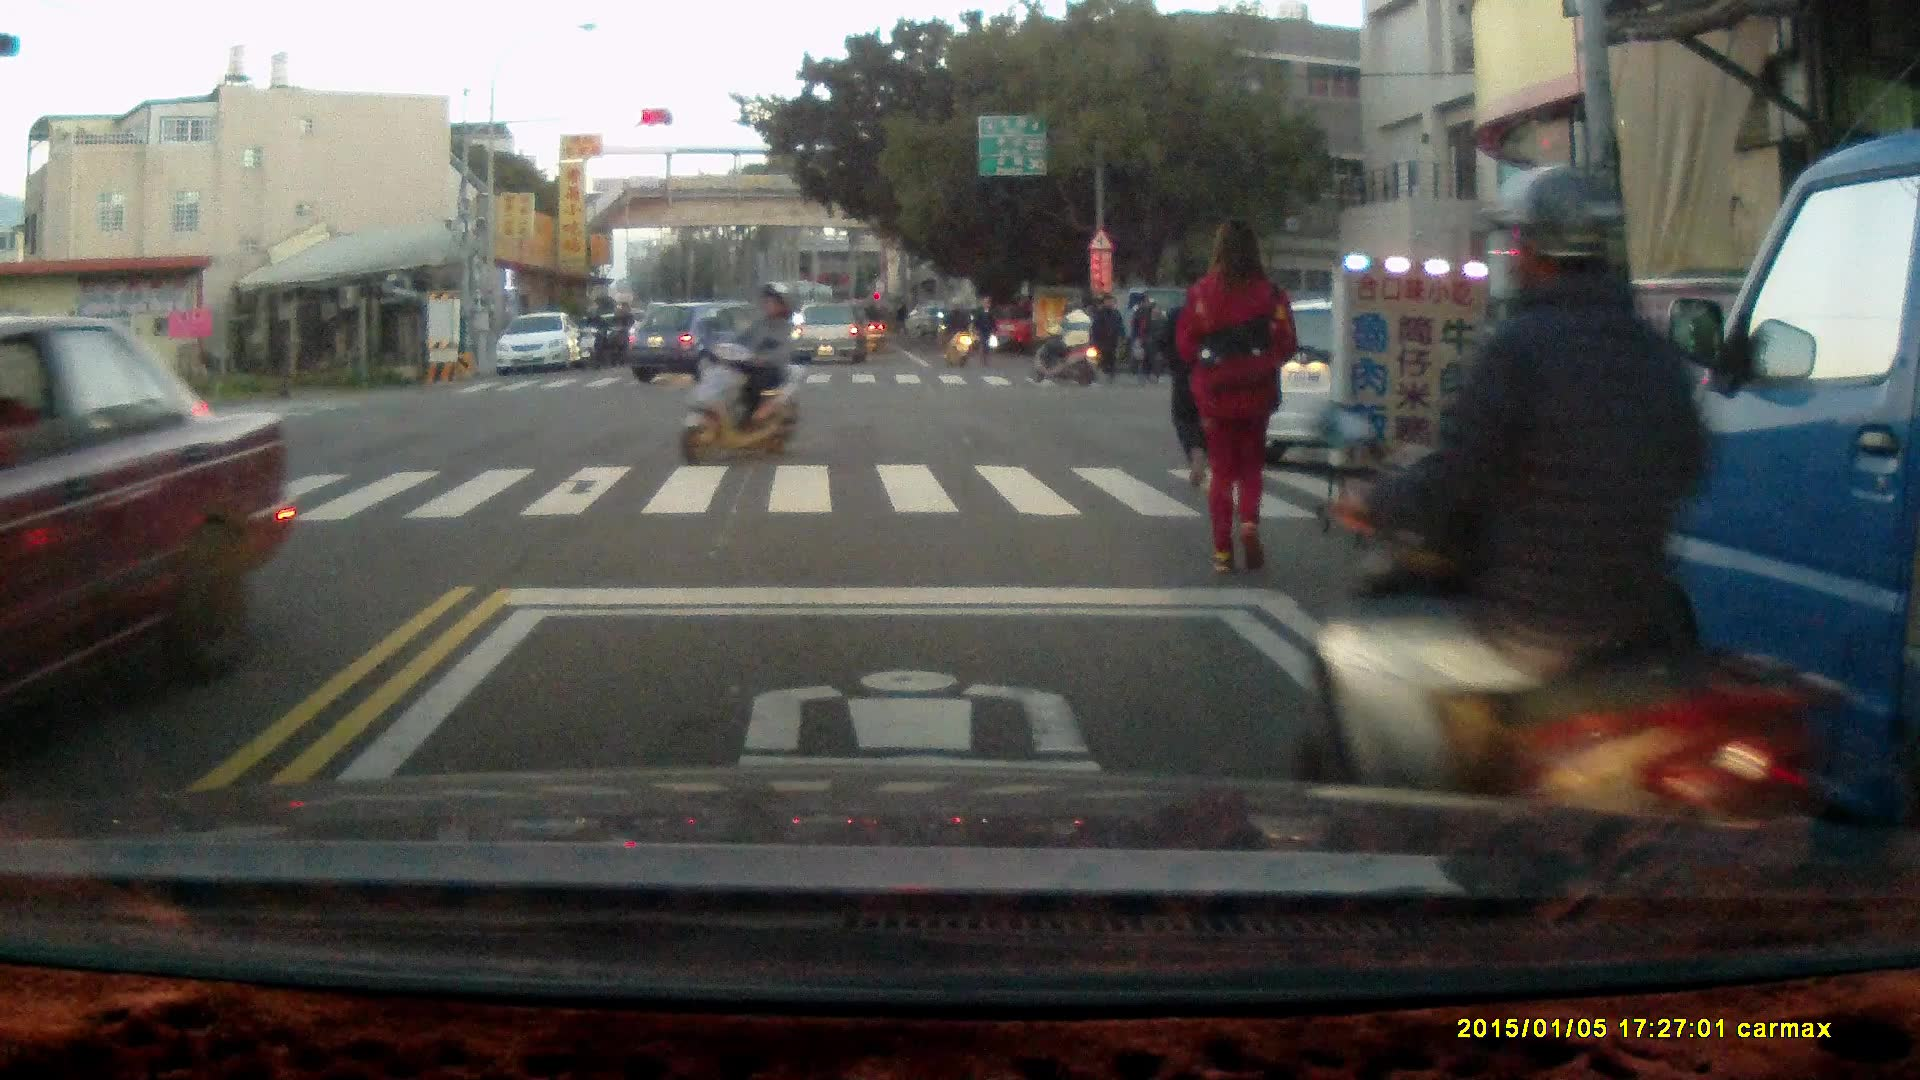pedestrian: (1175, 214, 1300, 582), (1153, 261, 1238, 485), (1088, 290, 1121, 384), (1135, 297, 1163, 375), (974, 293, 998, 368)
rider: (1297, 161, 1829, 892), (678, 282, 812, 469), (1030, 295, 1101, 387), (935, 293, 977, 370), (575, 302, 607, 370), (603, 302, 632, 364)
vehicle: (1598, 132, 1920, 879), (1, 314, 292, 735), (1233, 296, 1533, 459), (627, 303, 799, 388), (498, 313, 586, 377), (791, 301, 871, 369)
